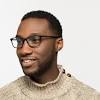Glasses: (5, 34, 63, 50)
